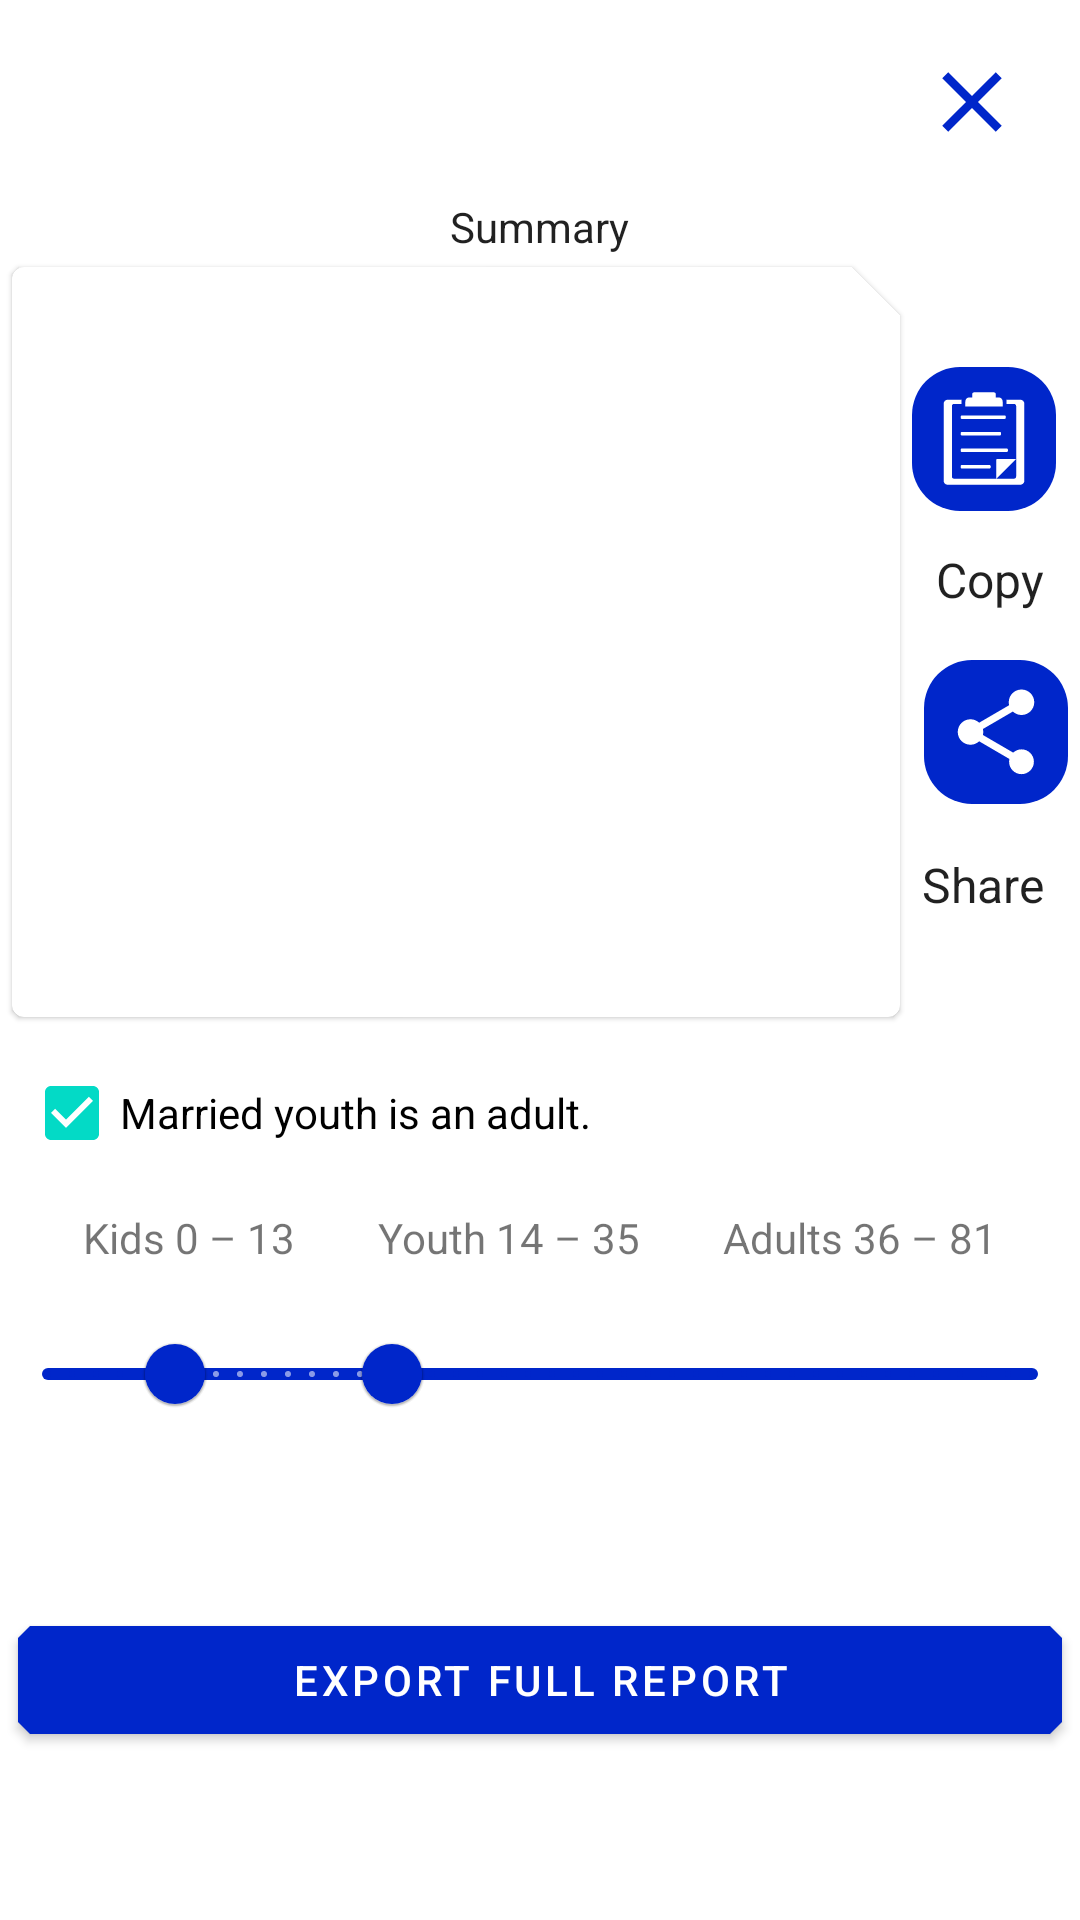

Where icons sit on this 1080*1920 app screen, as (x1, y1, x2, y2):
Close report summary output: (942, 72, 1002, 132)
Send the summary: (924, 660, 1068, 804)
